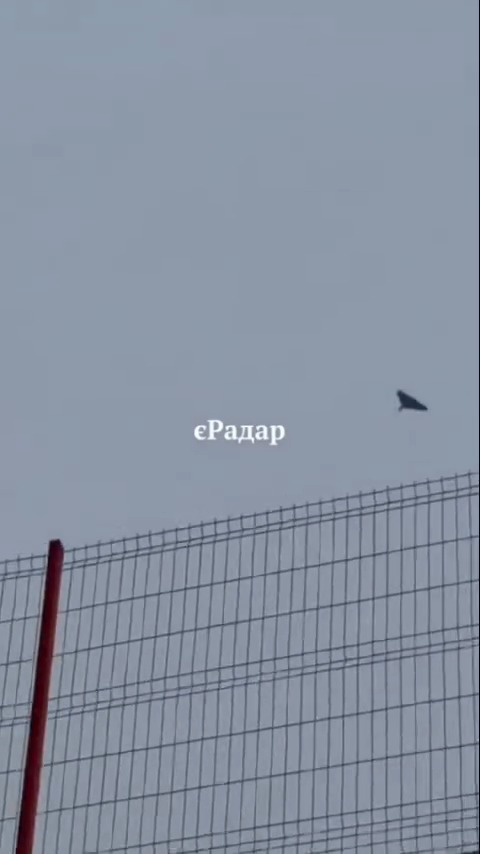shahed: (390, 385, 431, 419)
